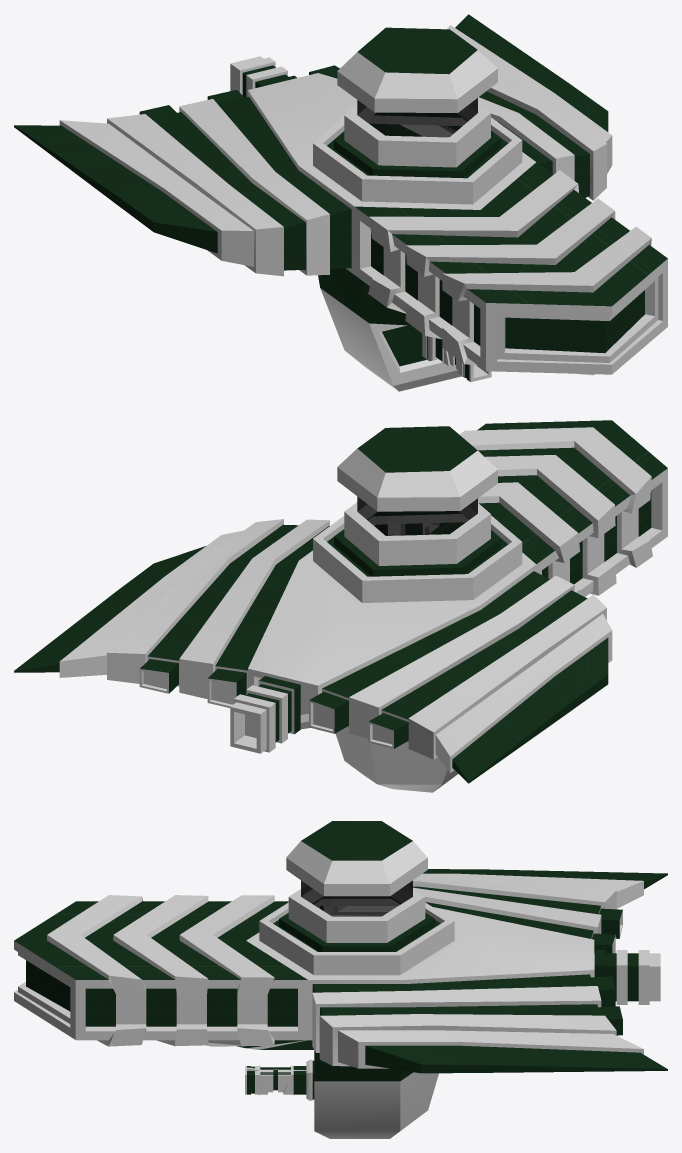
Rendered from DBB.fbx.
3 renders of one model, top to bottom at view 1: azimuth 30°, elevation 25°; view 2: azimuth 150°, elevation 25°; view 3: azimuth 270°, elevation 25°, orthographic. The views are drawn at different scales.
Visible parts, largest first — view 1: DBB; view 2: DBB; view 3: DBB.
Boxes of the visible parts, x1,y1,x2,y2 form: DBB: [14, 14, 667, 391]; DBB: [14, 420, 667, 792]; DBB: [14, 821, 667, 1138].
Size of the model in its own units: 6.01 by 4.06 by 8.49.
